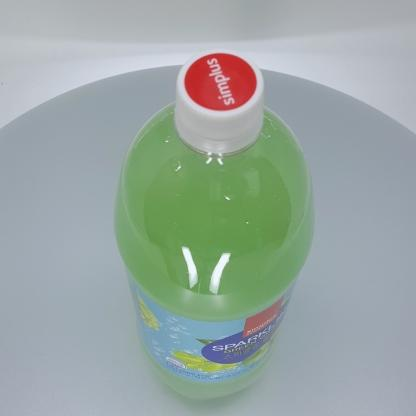---------------: (114, 49, 315, 400)
